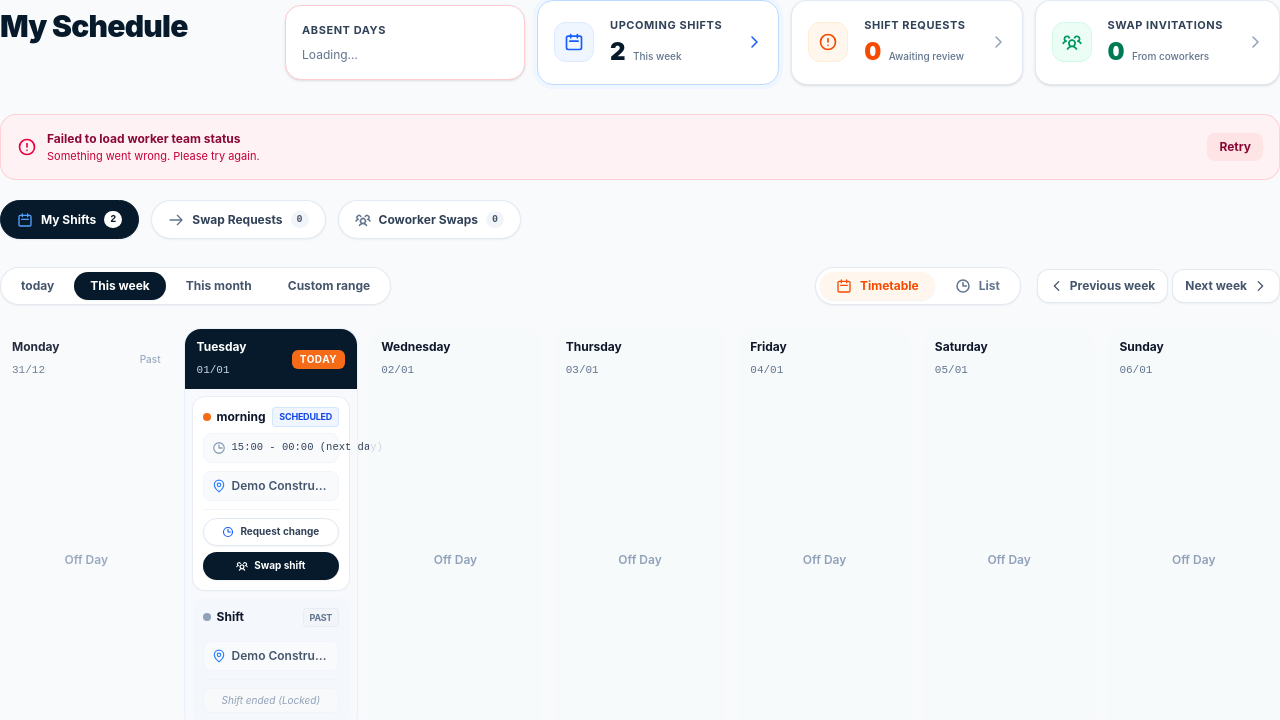
Test: gates swap submission when worker team query fails
Expected: the text "Failed to load worker team status" is shown, [47, 130, 260, 146]
Note: Open swap modal
Click the button "Swap shift" at (271, 566), box [203, 552, 339, 580]
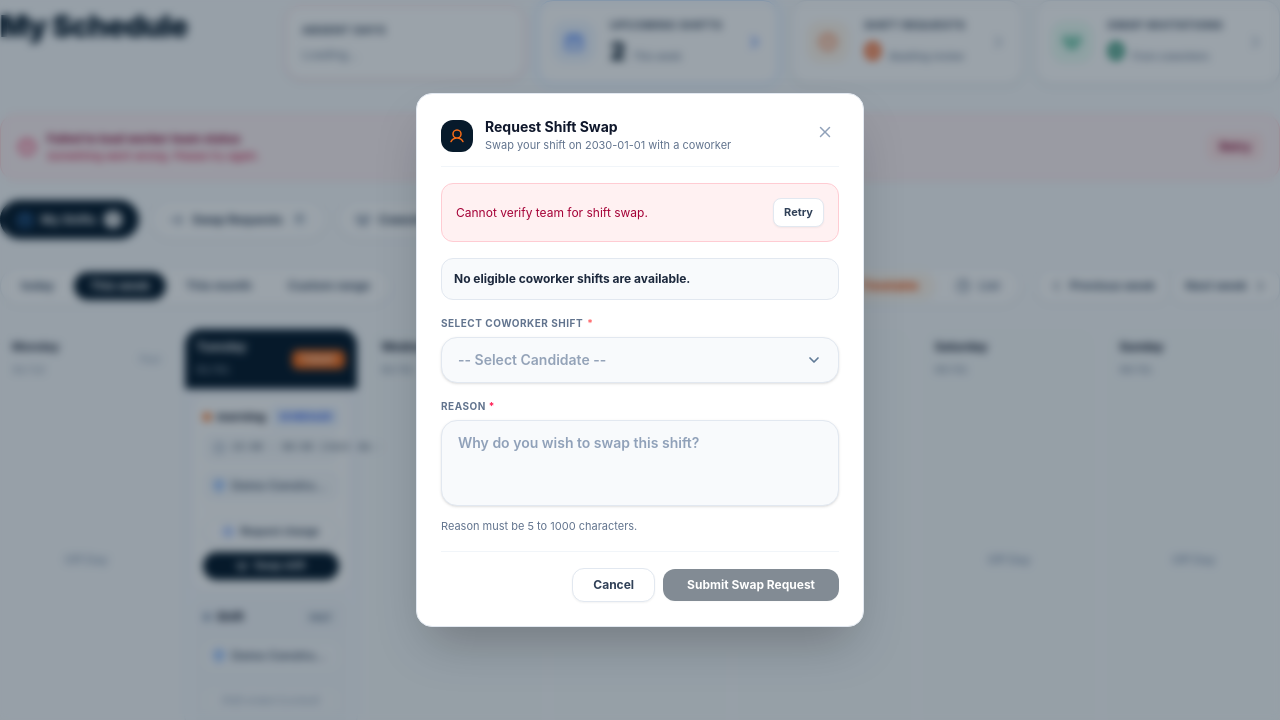
Now the text "Cannot verify team for shift swap." is shown, box [456, 204, 648, 220]
Now the button "Submit Swap Request" is disabled, box [663, 569, 839, 601]
